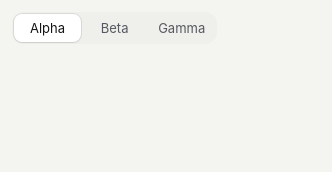
Test: SegmentedControl › selects on click
Click the radio button labelled "Gamma": (182, 28) [148,14,215,42]
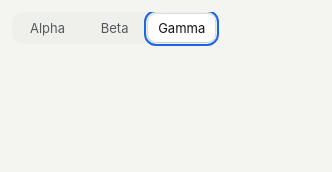
Expected: the radio button labelled "Gamma" is checked, [148,14,215,42]
